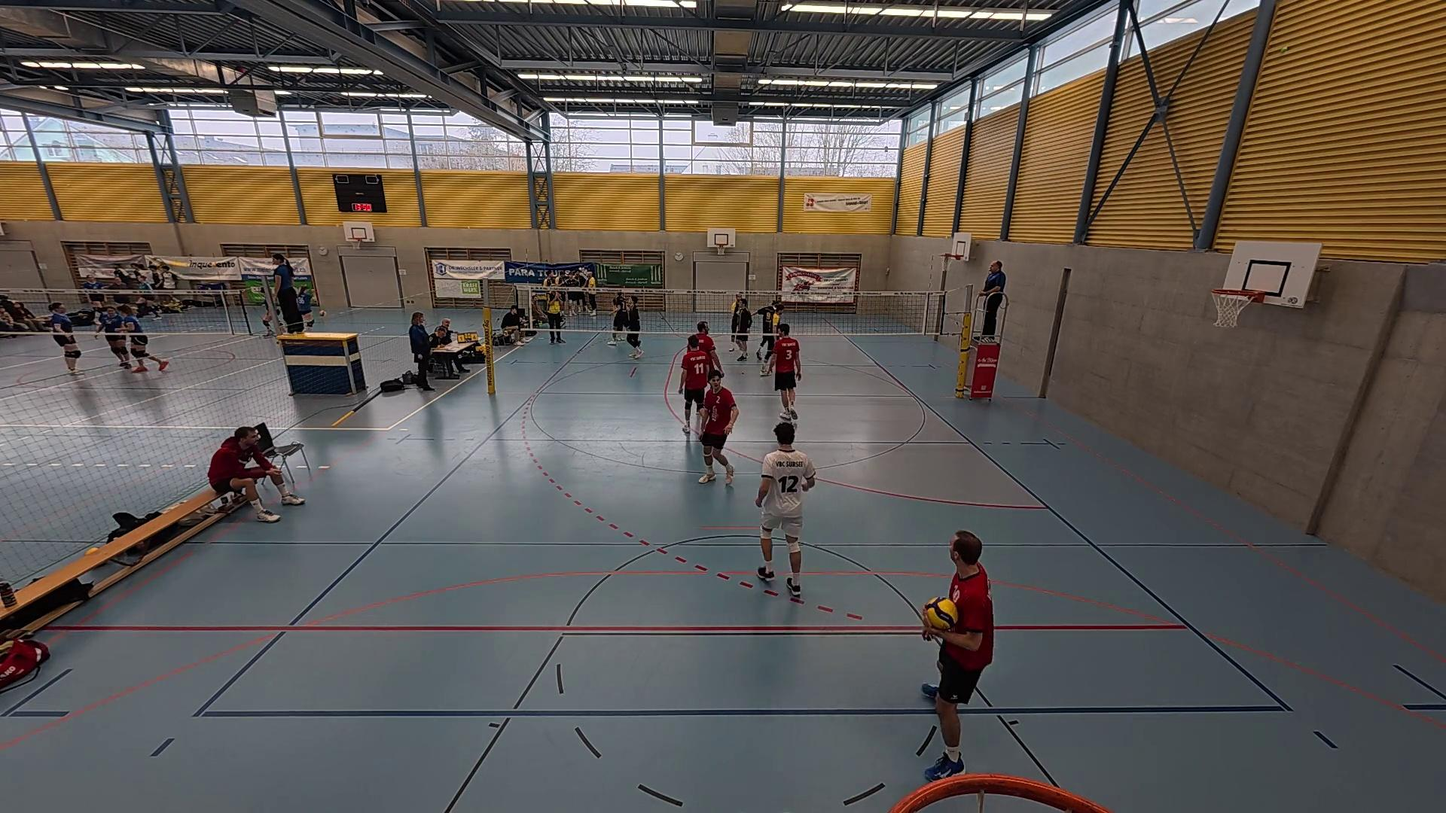Player: (915, 526, 996, 781), (755, 422, 816, 601), (697, 363, 738, 485), (674, 321, 714, 433), (767, 321, 803, 422), (757, 301, 783, 371), (728, 295, 755, 362), (622, 294, 644, 366), (606, 292, 627, 350)
ball: (926, 598, 956, 629)
